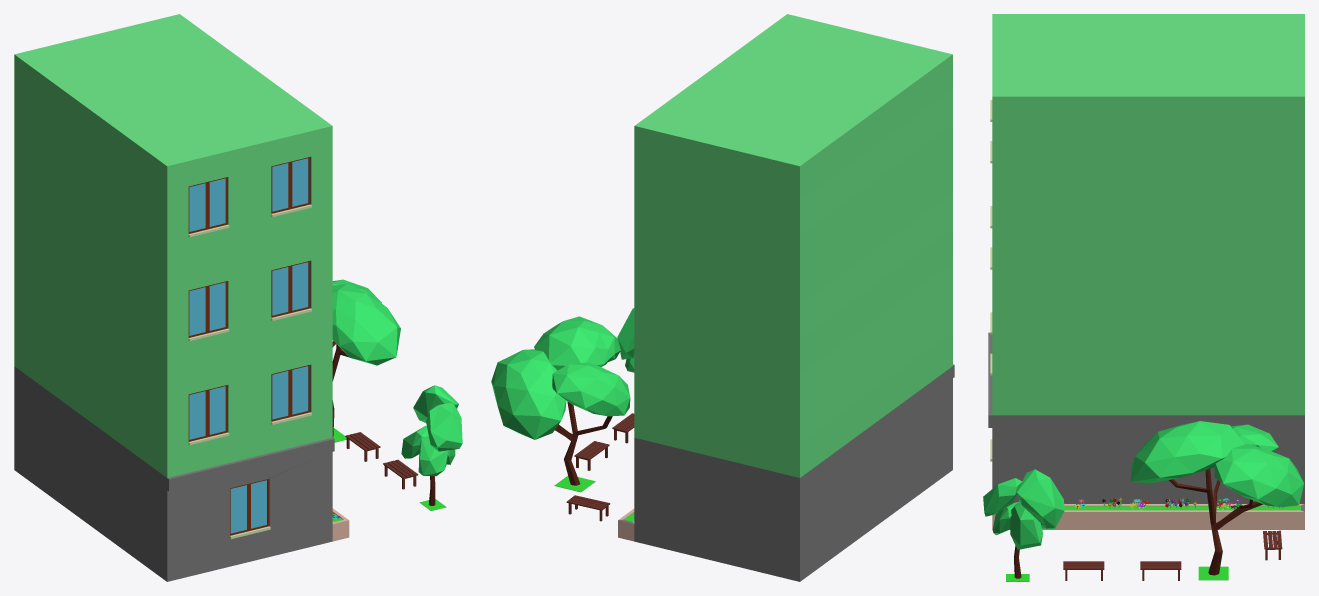
File: Budyne03.fbx
3 views of the same model, side by side, from view 1: azimuth 30°, elevation 25°; view 2: azimuth 150°, elevation 25°; view 3: azimuth 270°, elevation 25° (orthographic). The views are drawn at different scales.
Parts seen in each view (by area): view 1: Tree Type5 02 Model; view 2: Tree Type5 02 Model; view 3: Tree Type5 02 Model.
Boxes of the visible parts, x1,y1,x2,y2 form: Tree Type5 02 Model: [14, 14, 462, 581]; Tree Type5 02 Model: [491, 14, 954, 581]; Tree Type5 02 Model: [983, 14, 1304, 581].
Size of the model in its own units: 501 by 601 by 412.
